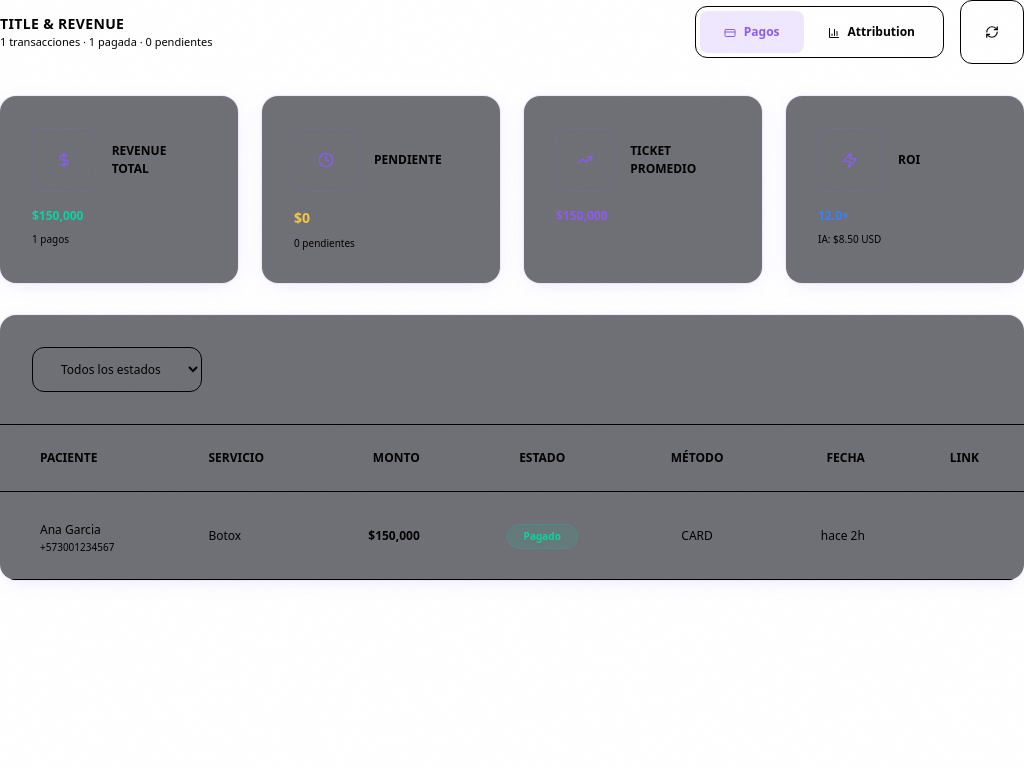
it: PagosPage › displays top conversaciones that generated revenue
The width and height of the screenshot is (1024, 768).
Expected: the text "Ana Garcia" is shown, top-left (40, 521), bottom-right (101, 538)
Step 1. Click the button "Attribution" → (871,32), box top-left (804, 11), bottom-right (939, 53)
(page scrolled)
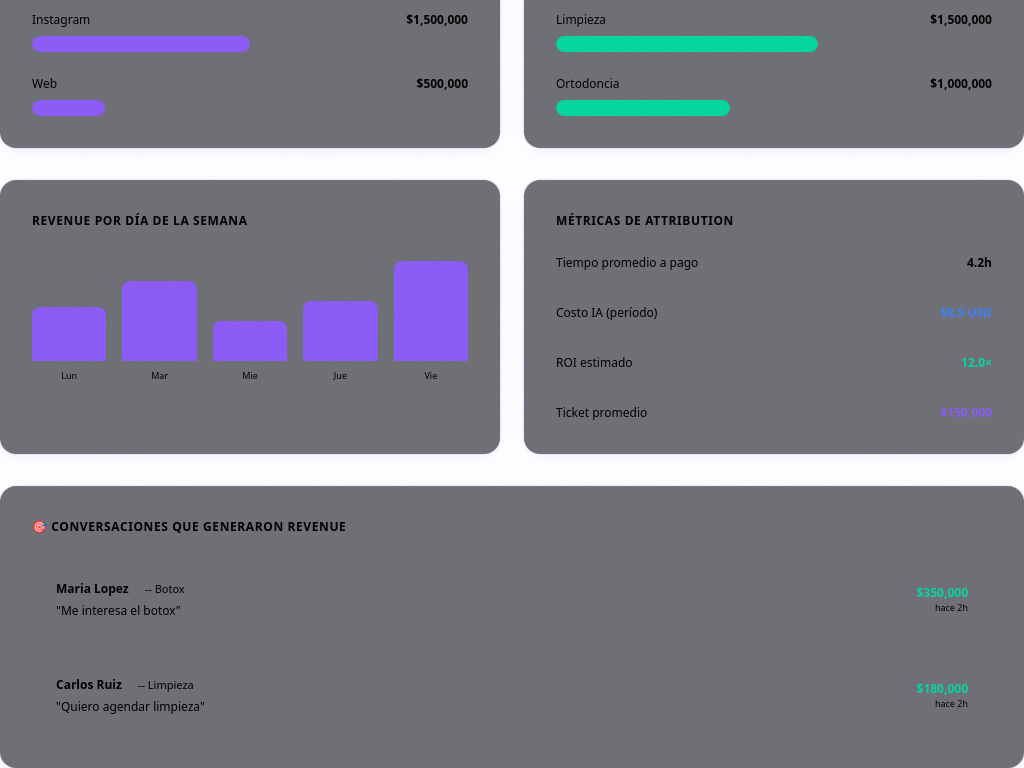
Expected: the text "Maria Lopez" is shown, top-left (56, 580), bottom-right (129, 598)
Expected: the text "\"Me interesa el botox\"" is shown, top-left (56, 602), bottom-right (181, 619)
Expected: the text "$350,000" is shown, top-left (916, 585), bottom-right (968, 601)
